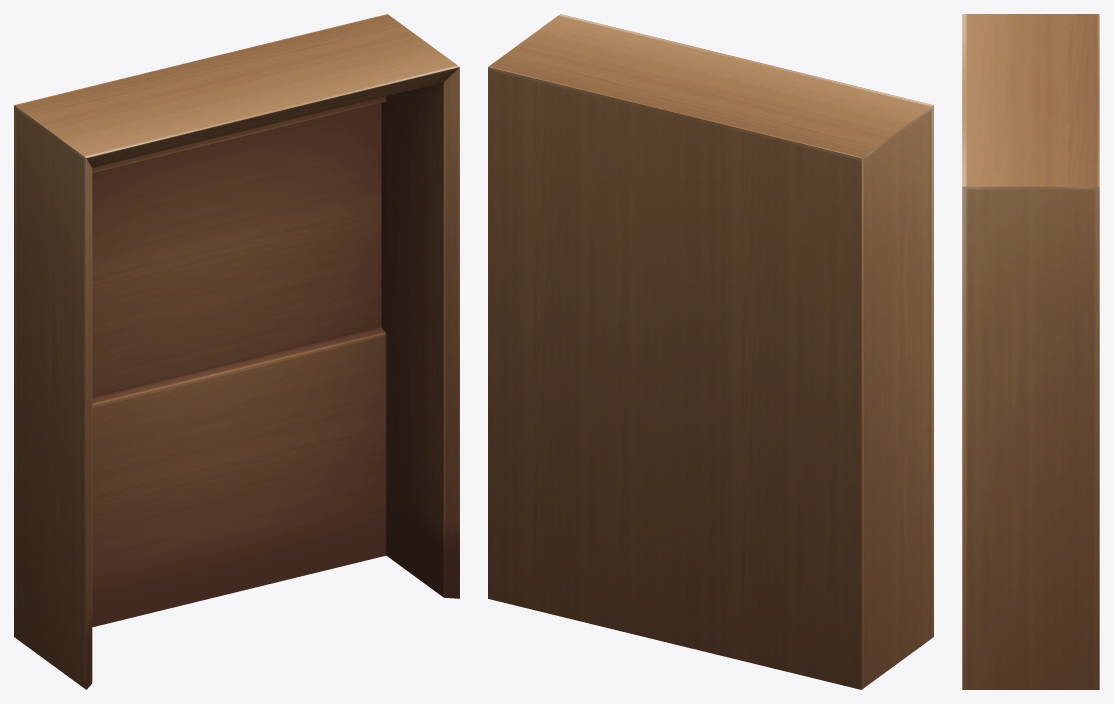
The model's file is MurphyBed.fbx.
3 views of the same model, side by side, from view 1: azimuth 30°, elevation 25°; view 2: azimuth 150°, elevation 25°; view 3: azimuth 270°, elevation 25° (orthographic). The views are drawn at different scales.
Visible parts, largest first — view 1: TinyLiving_MurphyBed; view 2: TinyLiving_MurphyBed; view 3: TinyLiving_MurphyBed.
Boxes of the visible parts, <box> form: TinyLiving_MurphyBed: <box>14,14,459,689</box>; TinyLiving_MurphyBed: <box>488,14,933,689</box>; TinyLiving_MurphyBed: <box>962,14,1099,689</box>.
Bounding box in the file's own units: 176 × 240 × 59.16.
